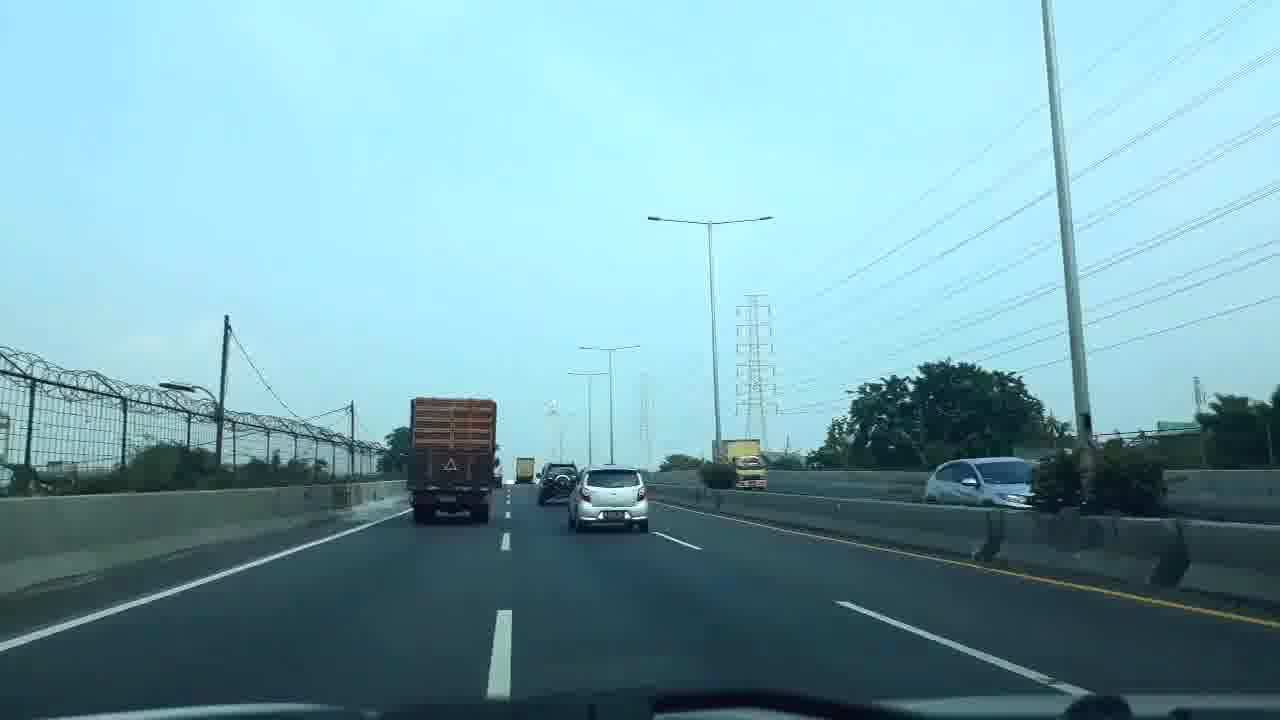plate_positive: (604, 511, 625, 520), (439, 496, 457, 503)
